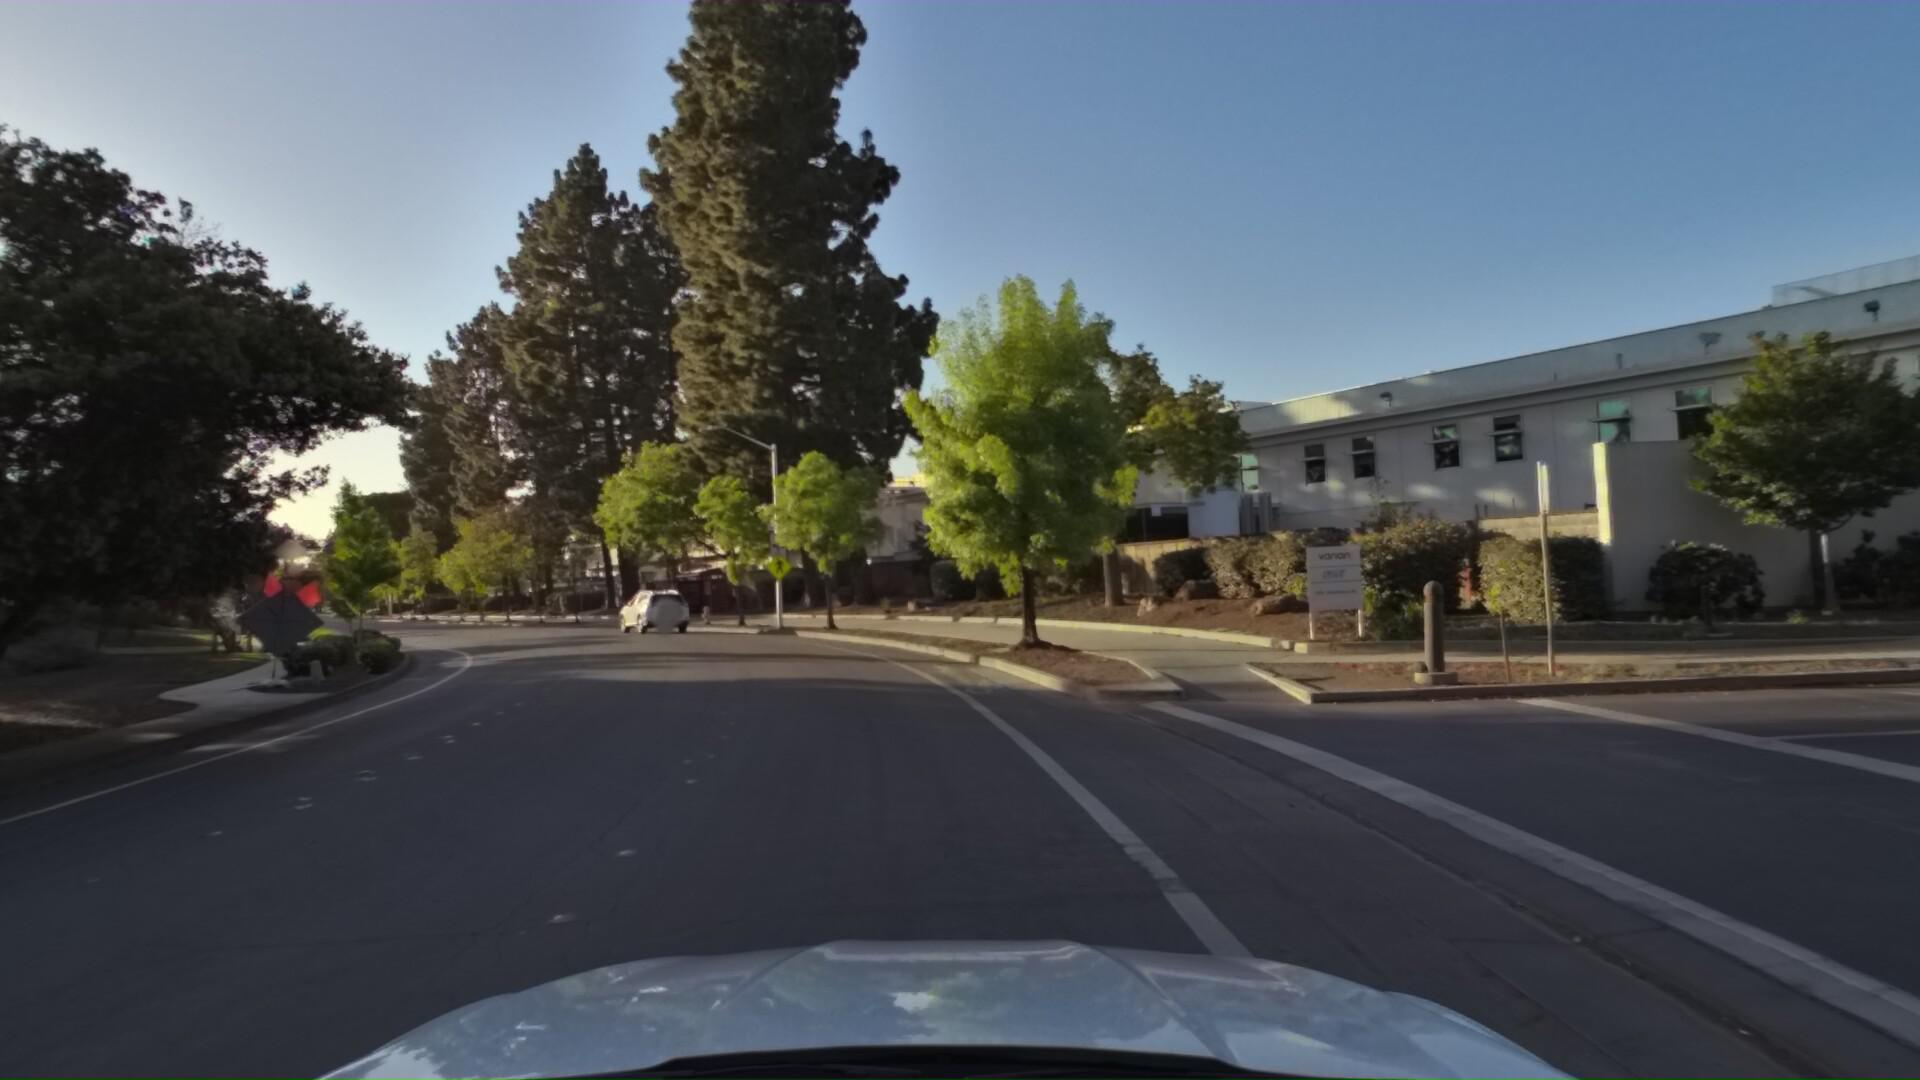car: (611, 583, 692, 636)
